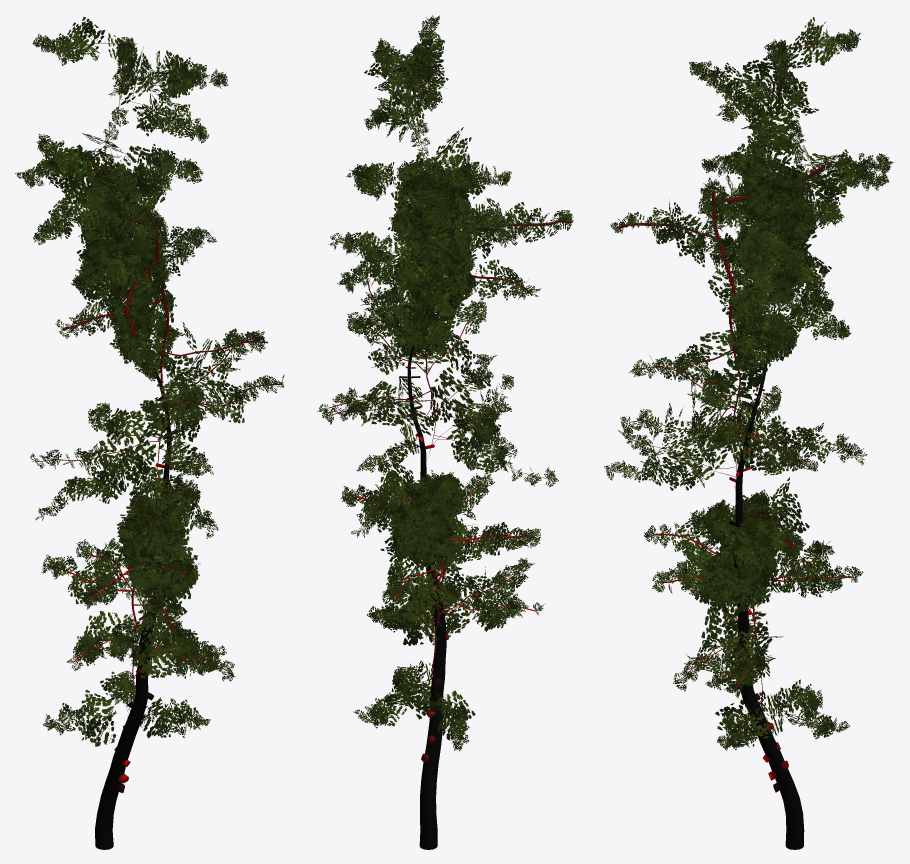
The model's file is Tree_23.fbx.
3 renders of one model, left to right at view 1: azimuth 30°, elevation 25°; view 2: azimuth 150°, elevation 25°; view 3: azimuth 270°, elevation 25°, orthographic. The views are drawn at different scales.
Visible parts, largest first — view 1: Tree_26; view 2: Tree_26; view 3: Tree_26.
Boxes of the visible parts, bbox=[...] form: Tree_26: bbox=[15, 17, 284, 849]; Tree_26: bbox=[317, 15, 573, 849]; Tree_26: bbox=[604, 17, 894, 849].
Bounding box in the file's own units: 1528 × 5121 × 1644.
